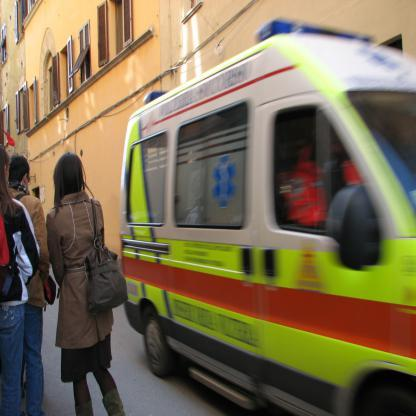ambulance: (119, 17, 416, 412)
